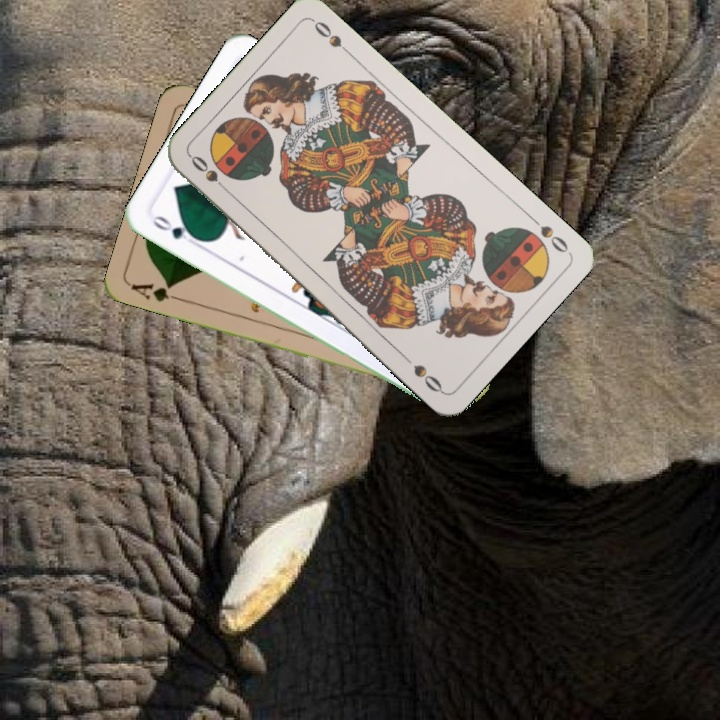GA: (127, 279, 186, 305)
GO: (148, 211, 203, 244)
SO: (186, 151, 234, 197), (525, 211, 571, 256)
